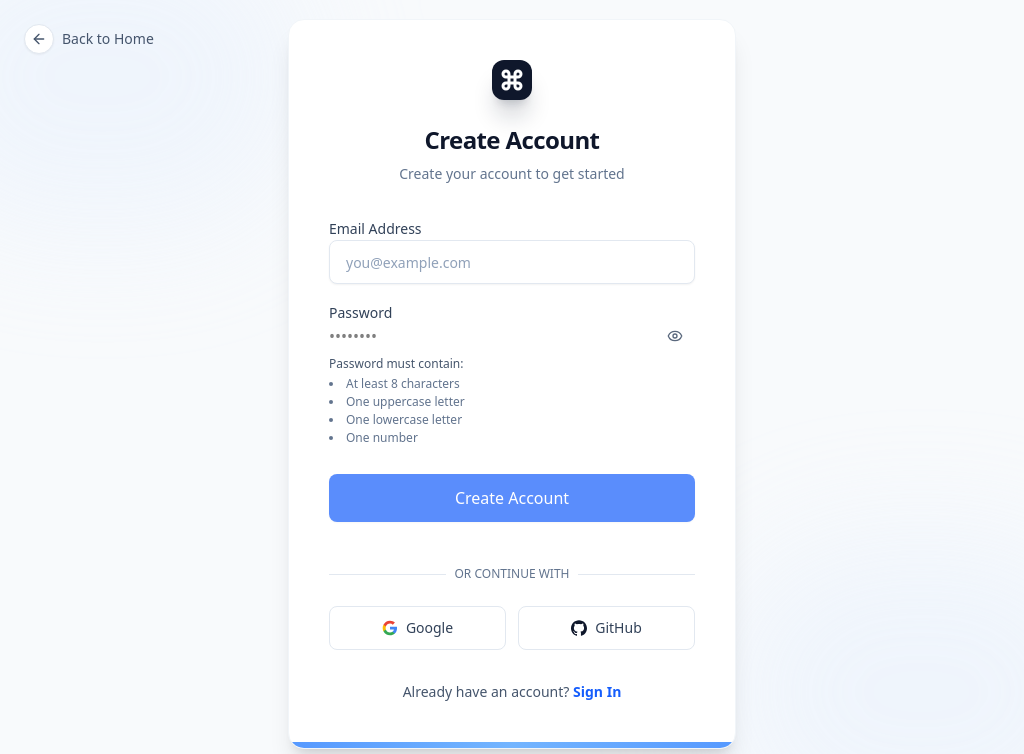
Test: signUpPage › shows error message for generic errors
This screenshot has width=1024, height=754.
Type "test@example.com" into the field labelled "Email Address" at (512, 262), box [329, 240, 695, 284]
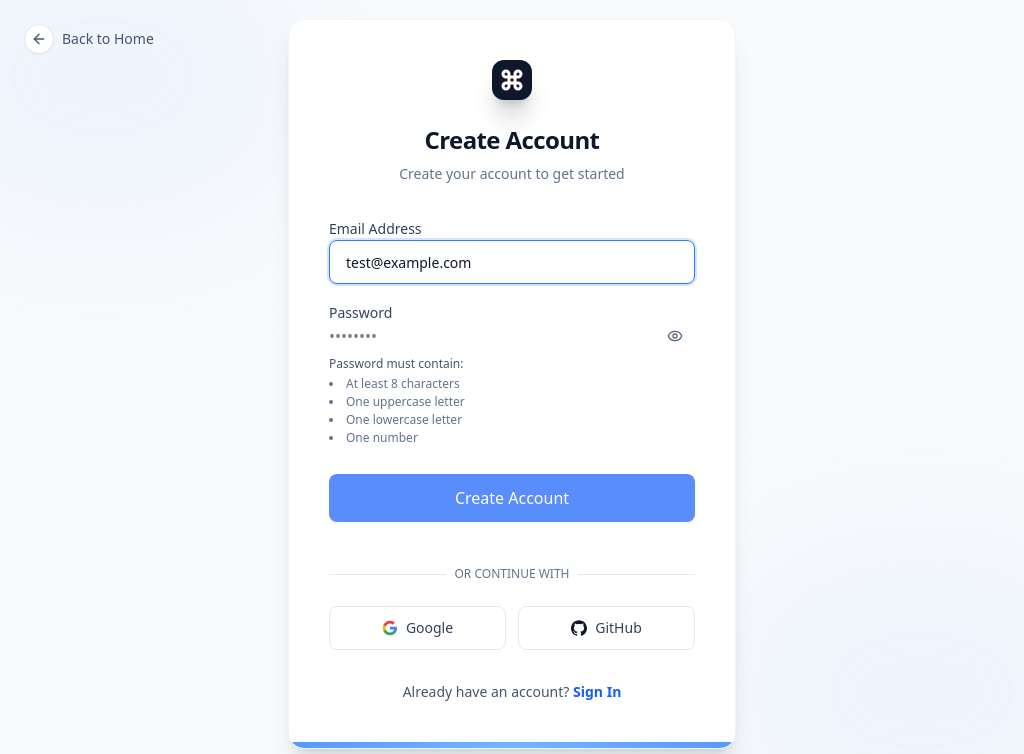
Type "Password123" into the password field labelled "Password" at (444, 336), box [329, 324, 560, 348]
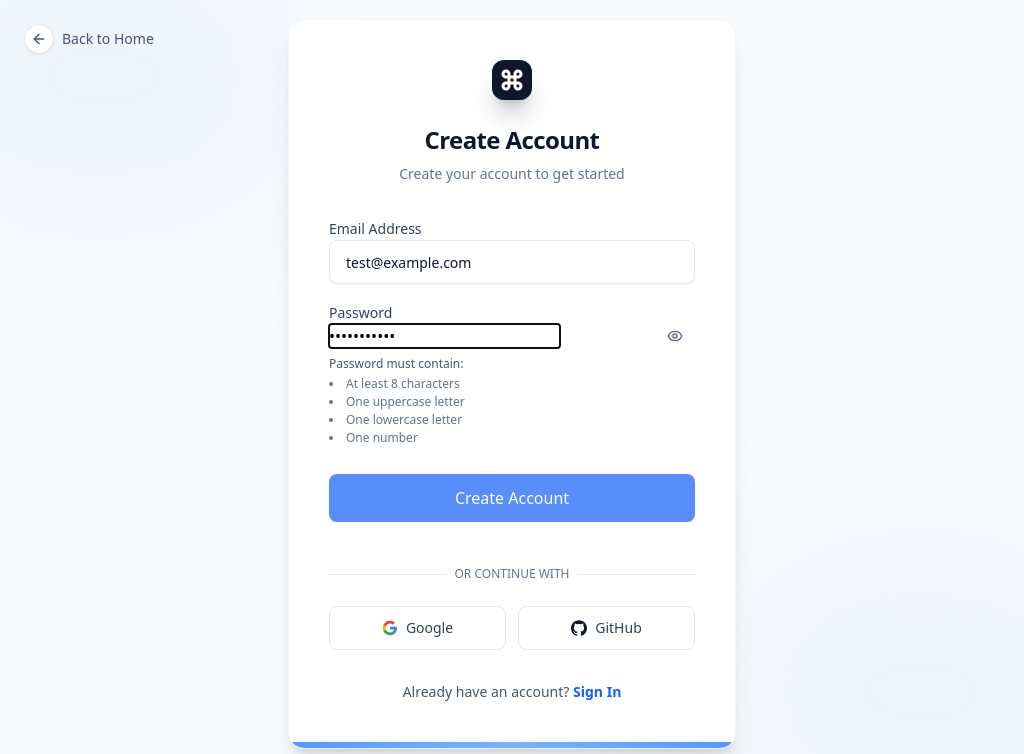
Press Tab
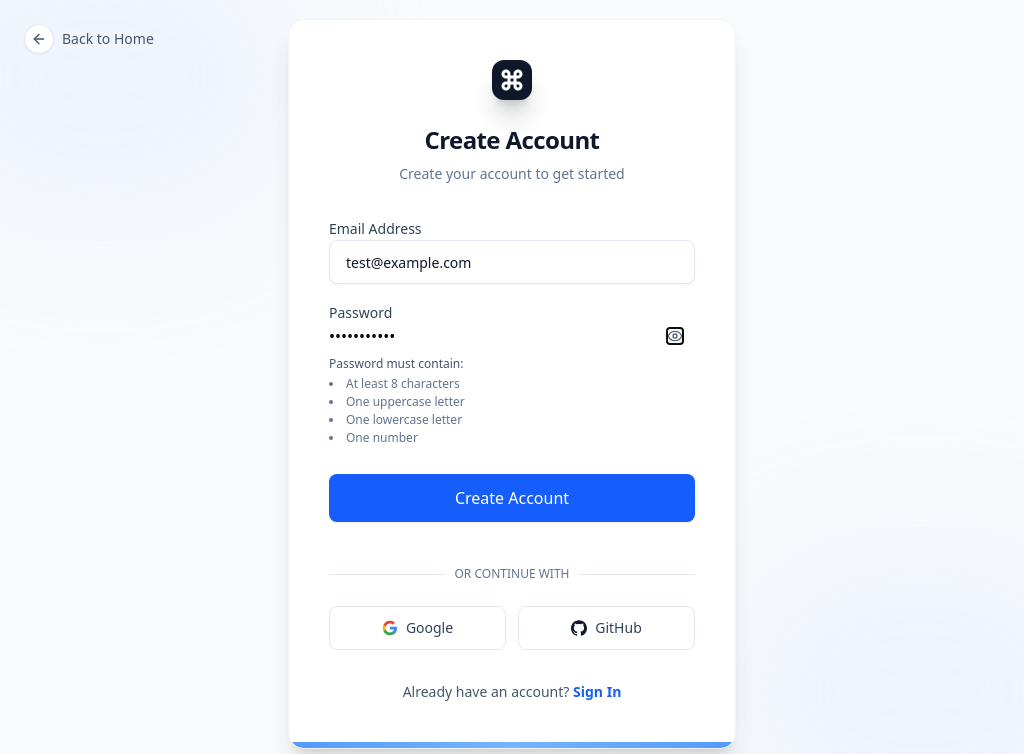
Click the button "Create Account" at (512, 498), box [329, 474, 695, 522]
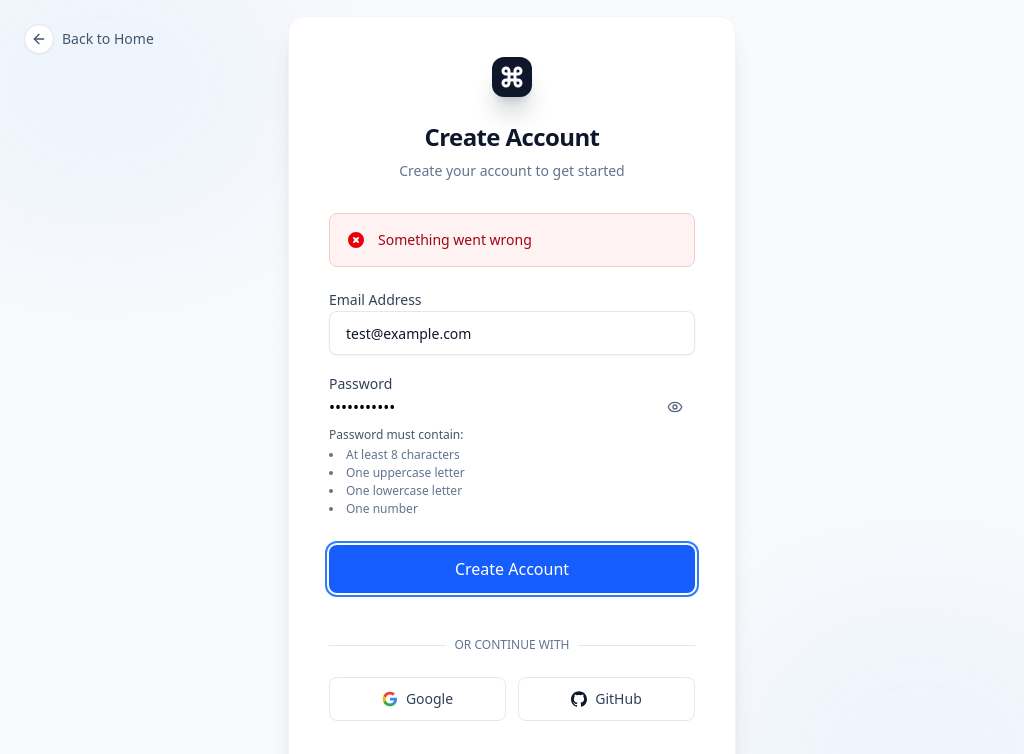
Expected: the text "Something went wrong" is shown, [378, 230, 532, 249]
